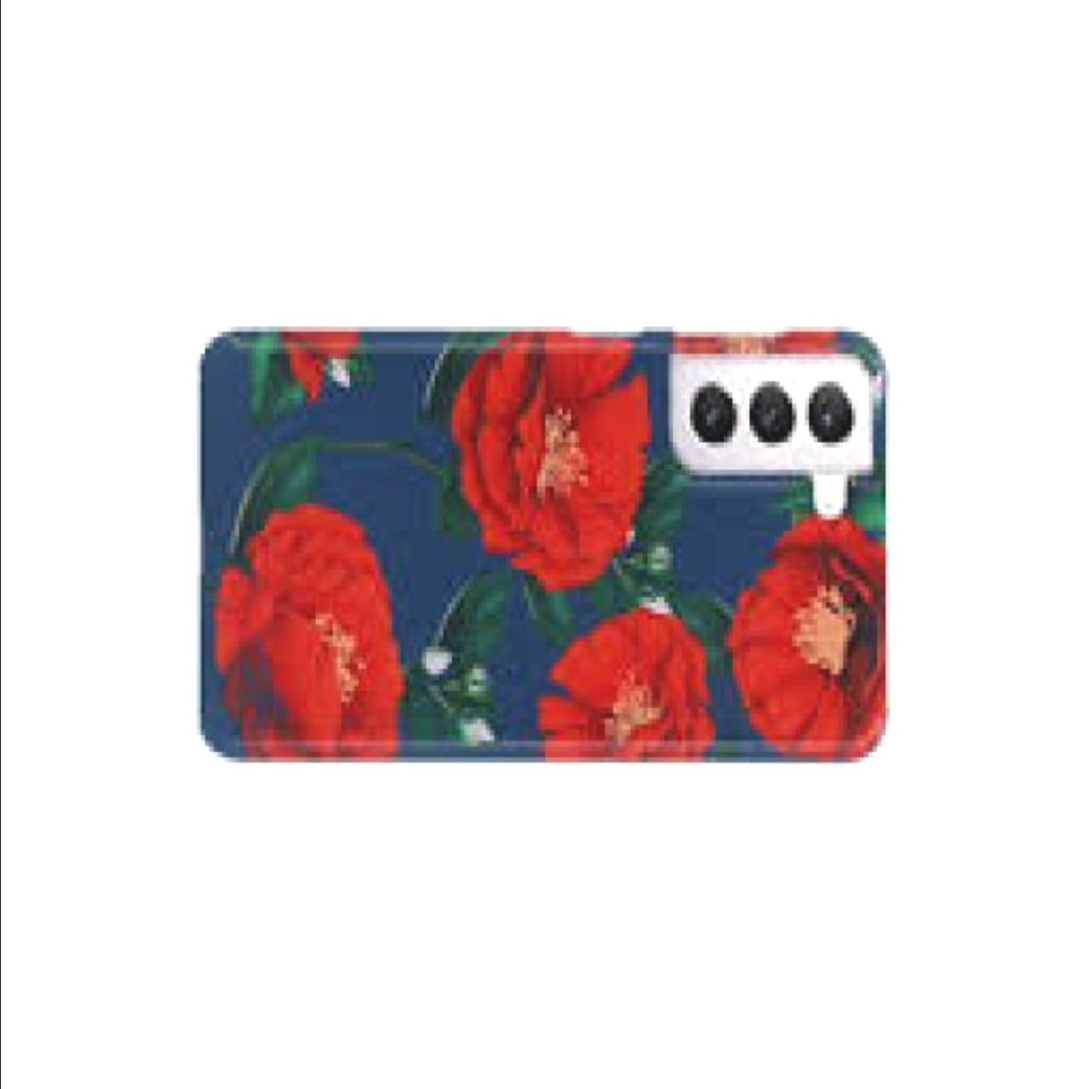phone: (183, 316, 908, 777)
